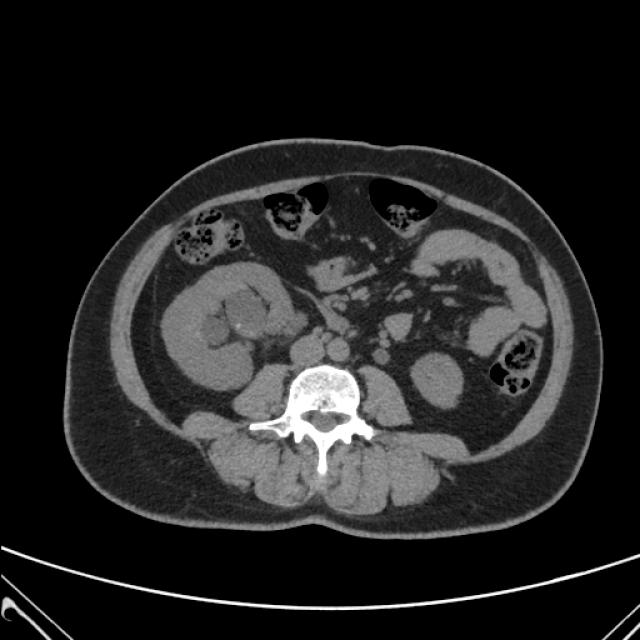kidney: (155, 257, 311, 394), (408, 347, 467, 414)
